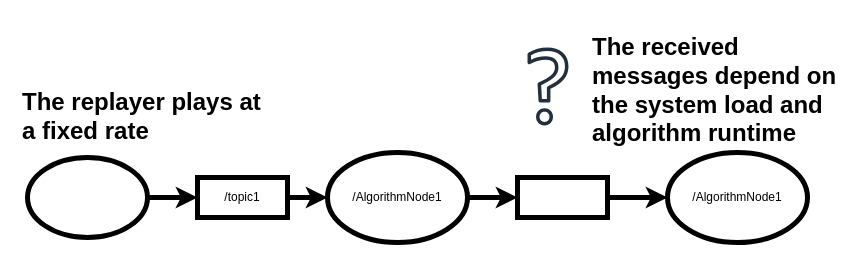
Some shapes in this 864 by 262 pixel diagram are drawn without their labels. Here are the shapes that lost their labels. From the top down, the box of each, then its label:
(24, 154, 150, 240): /rosbag2_player
(514, 174, 610, 220): /topic2
